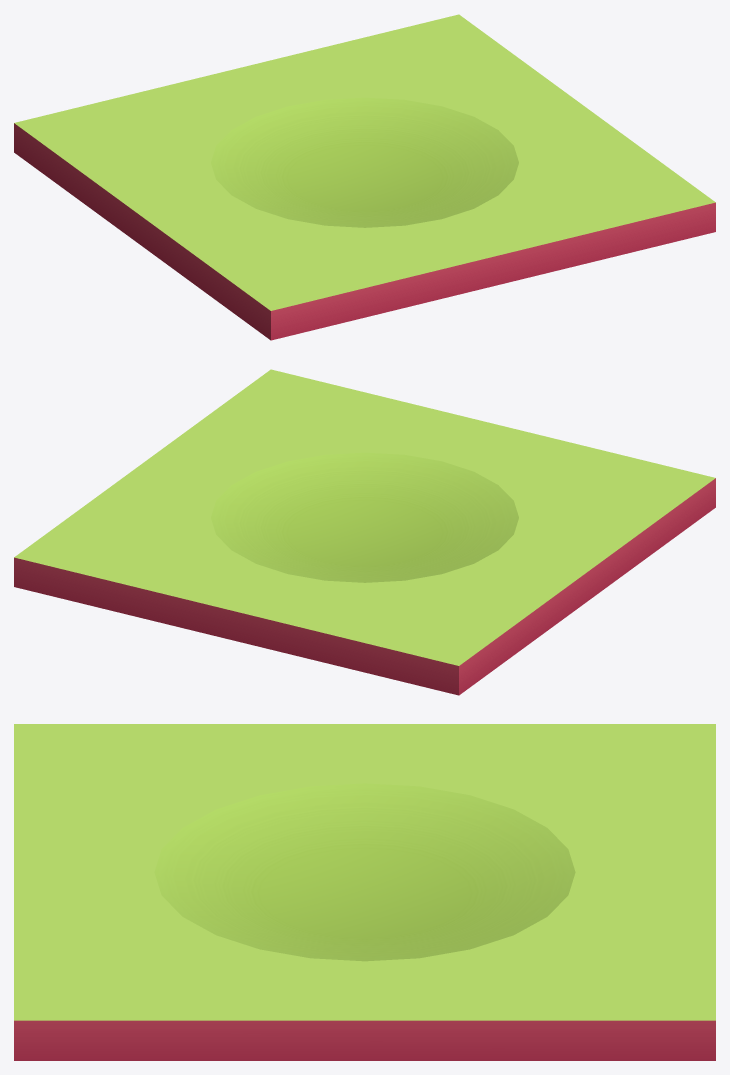
Rendered from bump-down.fbx.
3 views of the same model, one above another, from view 1: azimuth 30°, elevation 25°; view 2: azimuth 150°, elevation 25°; view 3: azimuth 270°, elevation 25° (orthographic). The views are drawn at different scales.
Parts seen in each view (by area): view 1: bump_down; view 2: bump_down; view 3: bump_down.
Boxes of the visible parts, x1,y1,x2,y2 form: bump_down: (14,14,715,340); bump_down: (14,369,715,695); bump_down: (14,724,715,1060).
Size of the model in its own units: 99.99 by 6.33 by 99.99.
Materials: 1 (1 with a texture image).
